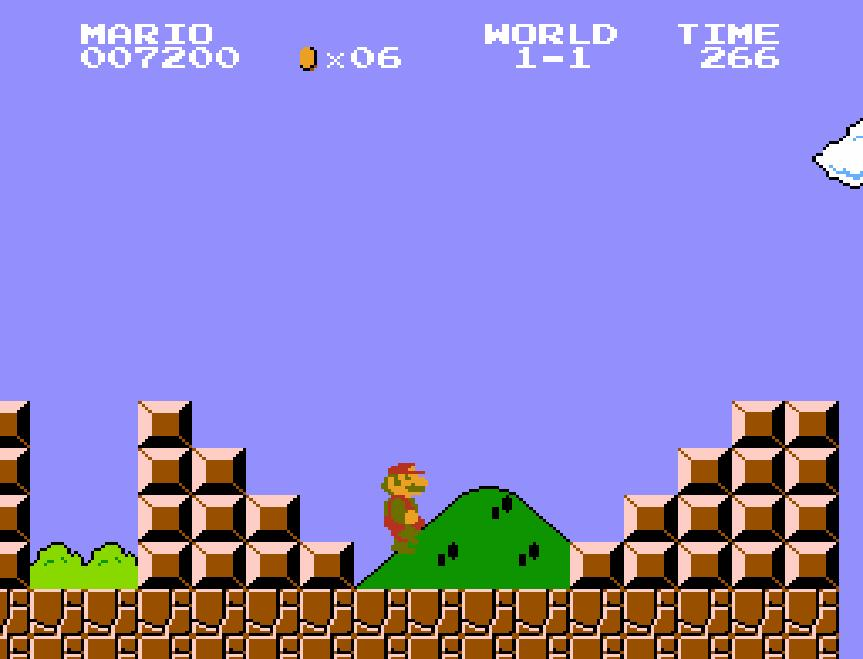big_mario: (376, 458, 434, 556)
